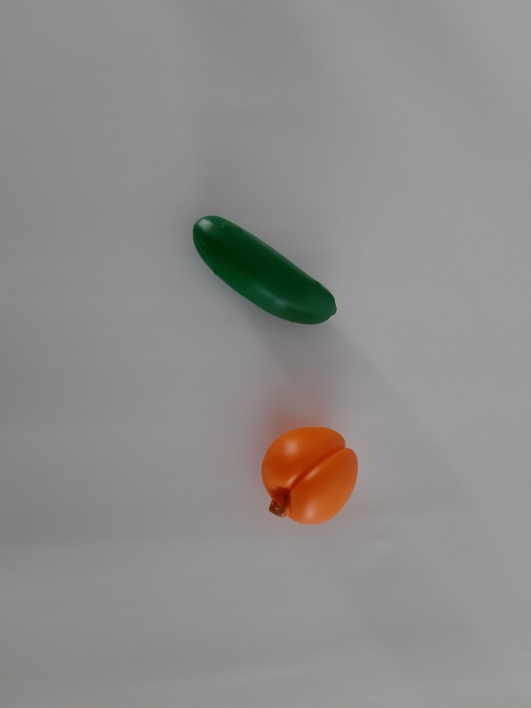apricot: (235, 413, 384, 541)
cucumber: (170, 196, 353, 347)
